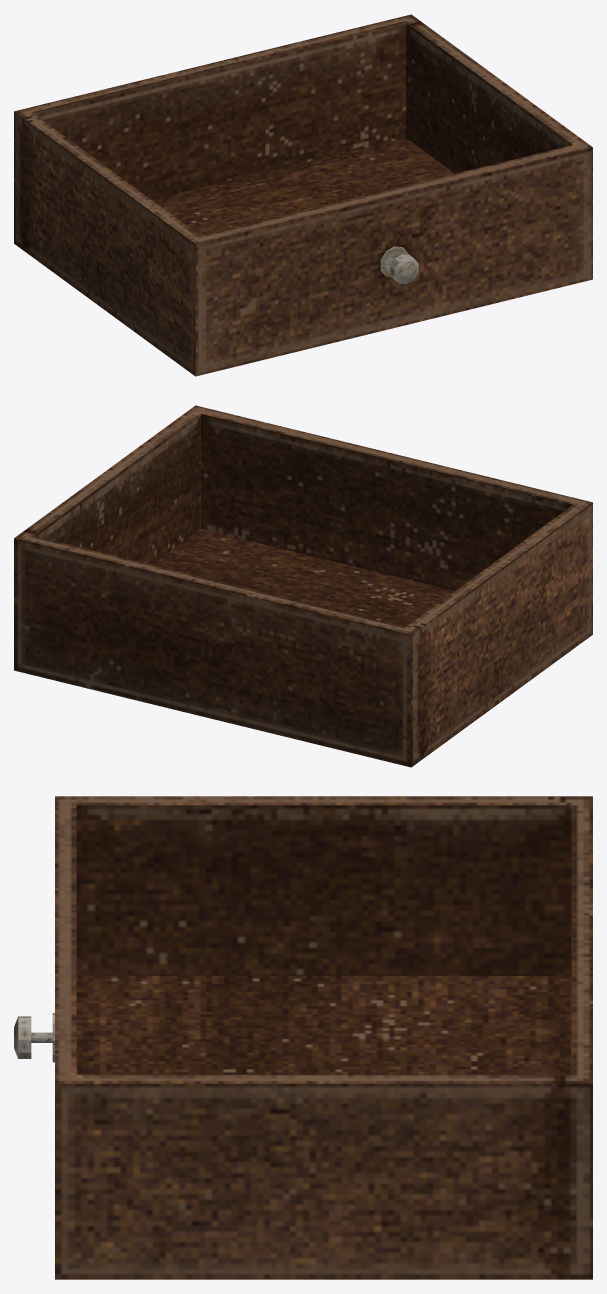
File: NightStand_Drawer.fbx
3 renders of one model, top to bottom at view 1: azimuth 30°, elevation 25°; view 2: azimuth 150°, elevation 25°; view 3: azimuth 270°, elevation 25°, orthographic. The views are drawn at different scales.
Parts seen in each view (by area): view 1: NightStandDrawer; view 2: NightStandDrawer; view 3: NightStandDrawer.
Boxes of the visible parts, x1,y1,x2,y2 form: NightStandDrawer: (14,14,592,376); NightStandDrawer: (14,405,592,767); NightStandDrawer: (14,796,592,1279).
Size of the model in its own units: 33.07 by 38.82 by 12.35.
